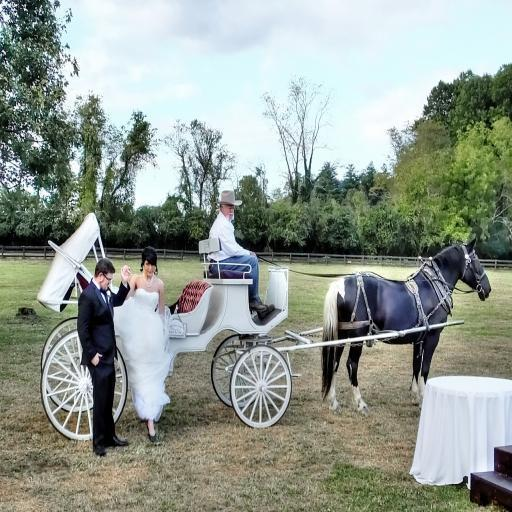horse: (322, 232, 492, 418)
